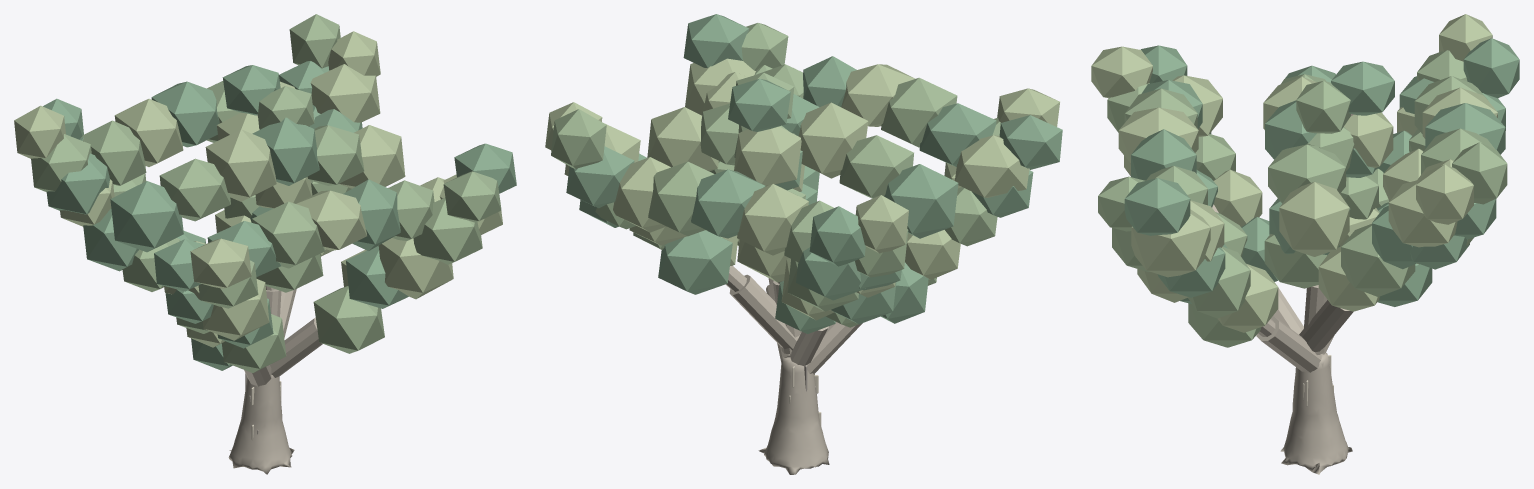
File: plane-tree-a.glb
The picture shows the model from 3 angles, left to right: view 1: azimuth 30°, elevation 25°; view 2: azimuth 150°, elevation 25°; view 3: azimuth 270°, elevation 25°; orthographic projection. The views are drawn at different scales.
Parts seen in each view (by area): view 1: plane-tree-a; view 2: plane-tree-a; view 3: plane-tree-a.
Boxes of the visible parts, <box> form: plane-tree-a: <box>14,14,516,474</box>; plane-tree-a: <box>545,14,1062,474</box>; plane-tree-a: <box>1091,14,1519,474</box>.
Size of the model in its own units: 8.74 by 8.84 by 8.52.
